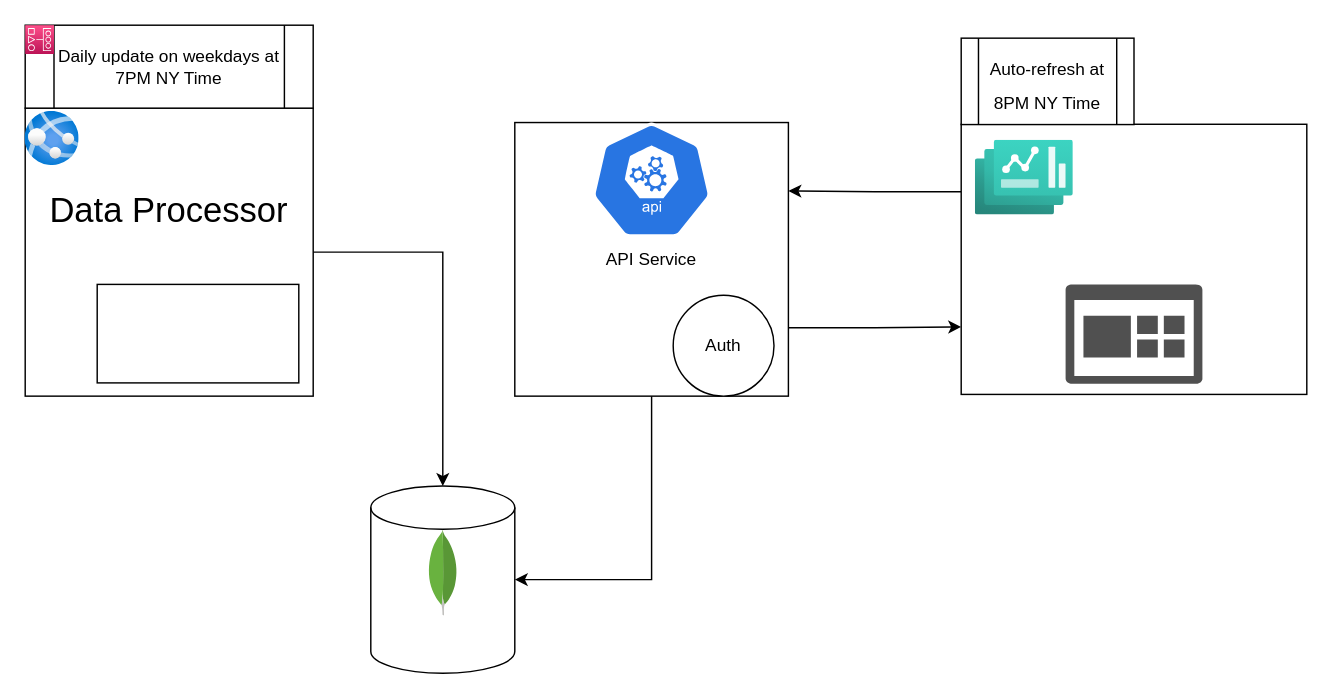
Image size: 1332x698. Some labels were removed from this diagram. Each missing label, with the box of its shape:
Collect data from provider/source Calculate returns Store data: (96, 283, 299, 383)
Dashboard App: (960, 123, 1307, 394)
MongoDB: (369, 485, 515, 673)
